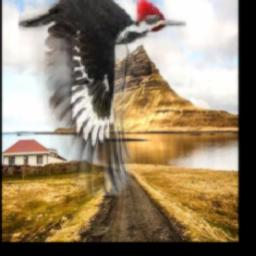Woodpecker: (18, 0, 189, 196)
